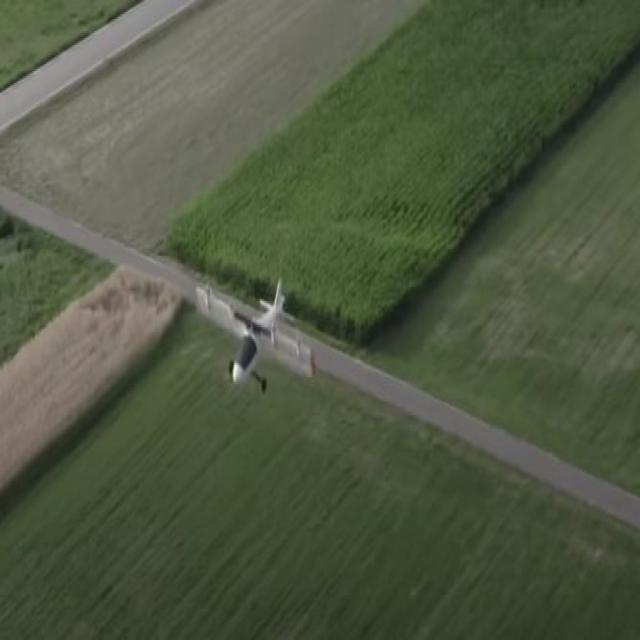iha: (227, 309, 283, 364)
